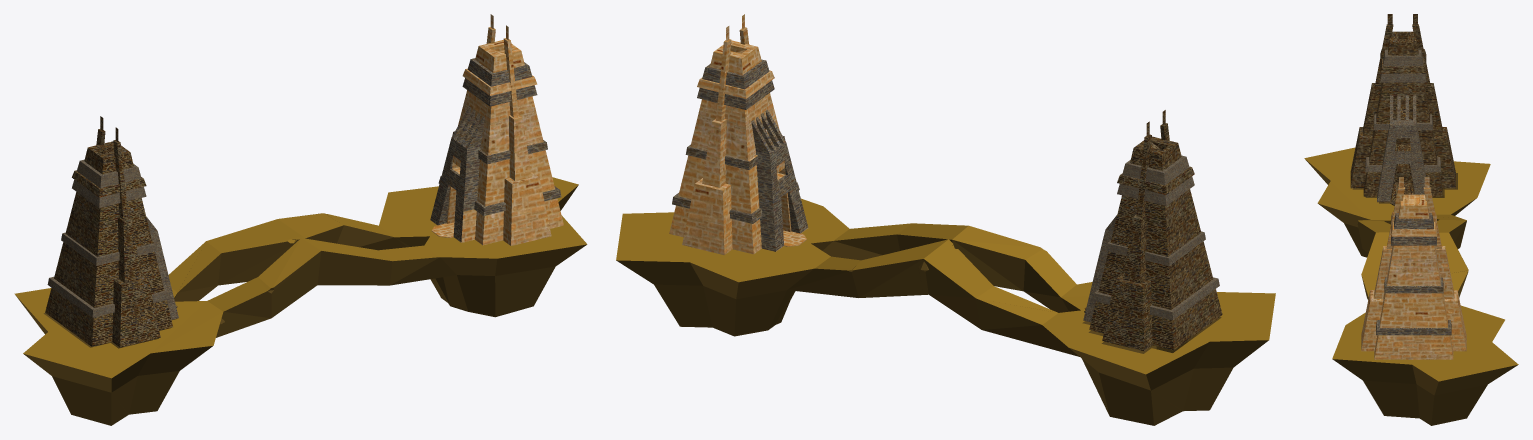
Rendered from mapFaces.fbx.
3 renders of one model, left to right at view 1: azimuth 30°, elevation 25°; view 2: azimuth 150°, elevation 25°; view 3: azimuth 270°, elevation 25°, orthographic. The views are drawn at different scales.
Visible parts, largest first — view 1: face-bottom-cut, face-bottom-cut.004, face-bottom-cut.002, face-bottom-cut.001, face-bottom-cut.007, face-bottom-cut.005, face-bottom-cut.003, face-bottom-cut.006; view 2: face-bottom-cut, face-bottom-cut.004, face-bottom-cut.002, face-bottom-cut.001, face-bottom-cut.007, face-bottom-cut.005, face-bottom-cut.003, face-bottom-cut.006; view 3: face-bottom-cut.004, face-bottom-cut.001, face-bottom-cut.002, face-bottom-cut, face-bottom-cut.006, face-bottom-cut.003, face-bottom-cut.005.
Part boxes in pixels (box(x1,y1,x2,y2)): face-bottom-cut: box(15, 185, 586, 425); face-bottom-cut.004: box(14, 177, 586, 378); face-bottom-cut.002: box(45, 116, 177, 347); face-bottom-cut.001: box(430, 14, 563, 245); face-bottom-cut.007: box(430, 106, 484, 241); face-bottom-cut.005: box(47, 159, 170, 317); face-bottom-cut.003: box(438, 58, 561, 216); face-bottom-cut.006: box(146, 217, 178, 319); face-bottom-cut: box(616, 234, 1268, 425); face-bottom-cut.004: box(616, 198, 1275, 374); face-bottom-cut.002: box(1084, 110, 1222, 351); face-bottom-cut.001: box(669, 14, 808, 255); face-bottom-cut.007: box(751, 109, 808, 251); face-bottom-cut.005: box(1092, 155, 1219, 319); face-bottom-cut.003: box(672, 59, 799, 223); face-bottom-cut.006: box(1083, 215, 1116, 322); face-bottom-cut.004: box(1304, 147, 1518, 381); face-bottom-cut.001: box(1361, 177, 1466, 359); face-bottom-cut.002: box(1350, 14, 1455, 205); face-bottom-cut: box(1305, 159, 1517, 425); face-bottom-cut.006: box(1377, 95, 1425, 201); face-bottom-cut.003: box(1376, 213, 1451, 335); face-bottom-cut.005: box(1365, 50, 1440, 172).
Size of what is drawn, in the model's own units: 8079 by 3624 by 3034.
